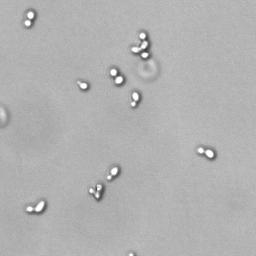budding: (24, 197, 47, 217), (195, 144, 217, 162), (107, 66, 125, 88), (104, 163, 122, 181), (22, 8, 36, 31), (128, 89, 141, 109), (74, 76, 89, 92)
cluster: (128, 30, 153, 62), (87, 183, 107, 203)
